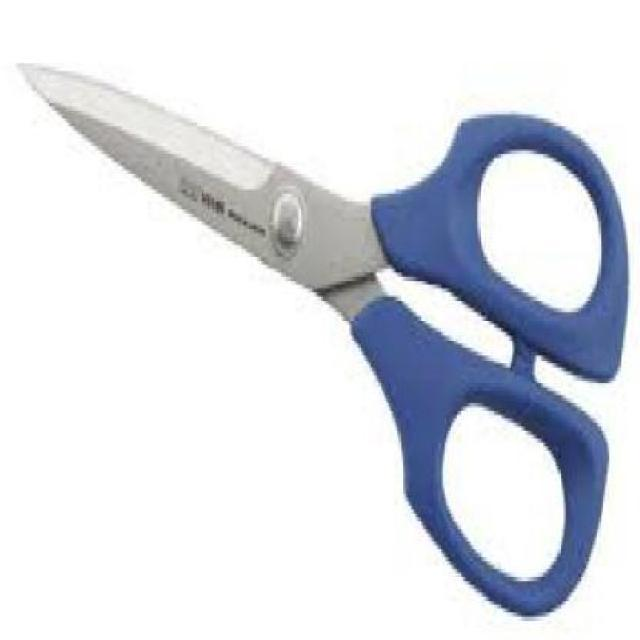scissors: (18, 59, 630, 616)
